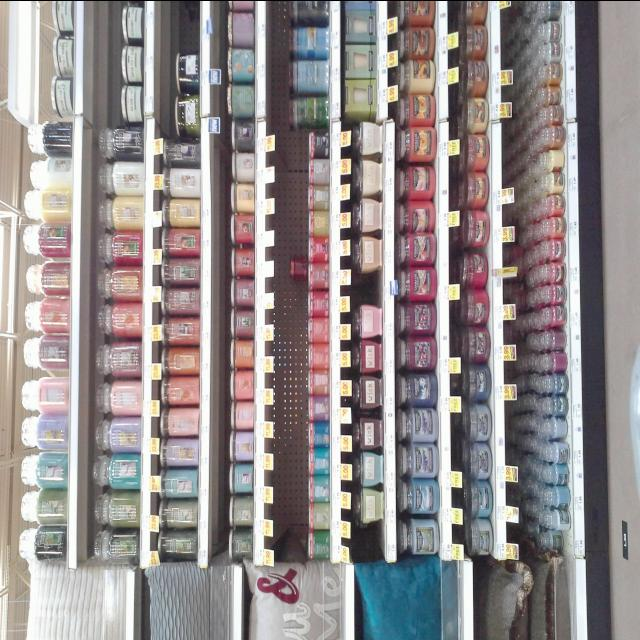empty_space: (171, 0, 197, 40)
